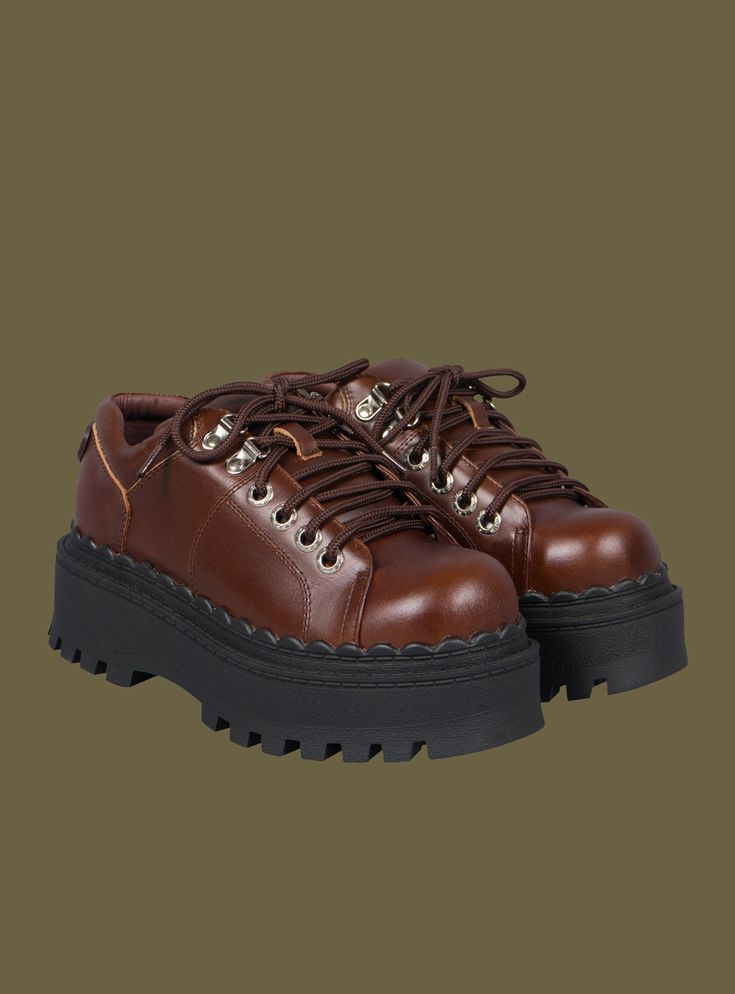cuero: (72, 350, 671, 653)
